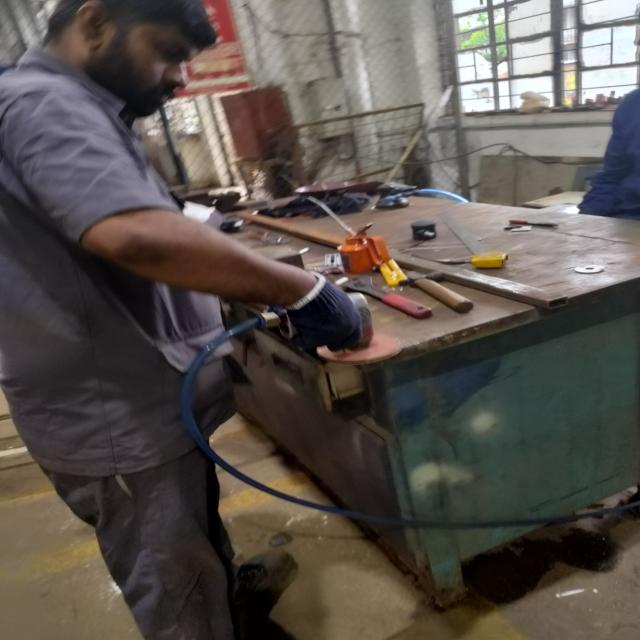Gloves-Detection: (282, 264, 358, 352)
